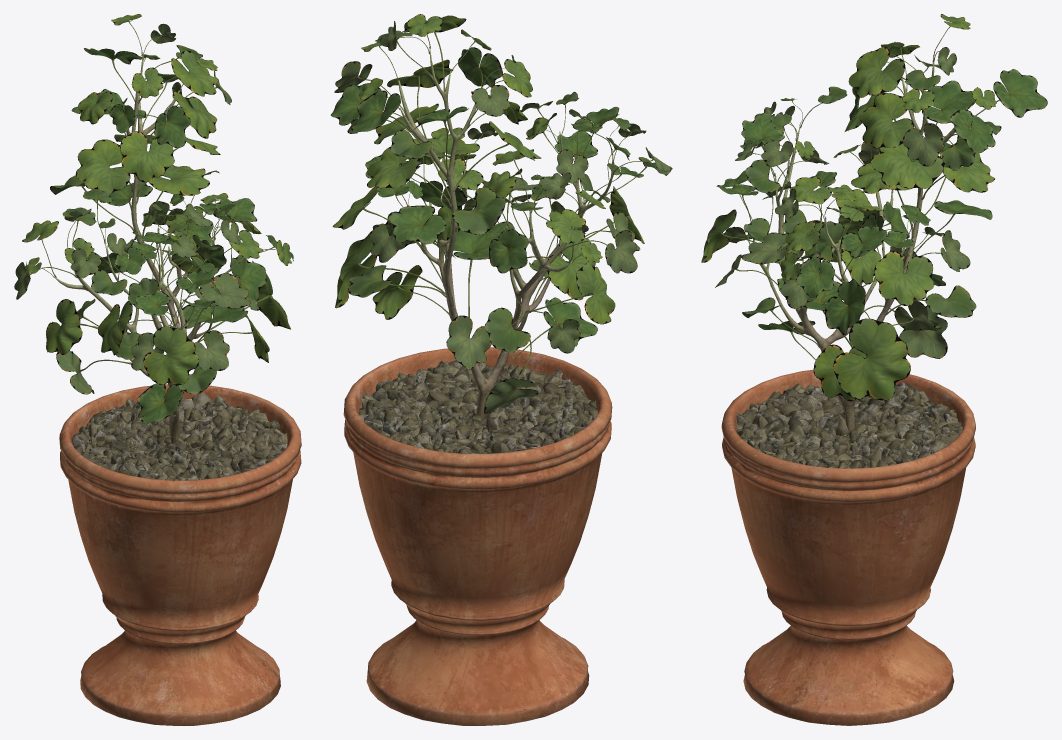
Rendered from plant-ficus.glb.
3 renders of one model, left to right at view 1: azimuth 30°, elevation 25°; view 2: azimuth 150°, elevation 25°; view 3: azimuth 270°, elevation 25°, orthographic. The views are drawn at different scales.
Parts seen in each view (by area): view 1: potted_plant_01_pot, potted_plant_01_leaves, potted_plant_01_pebbles, potted_plant_01_stem; view 2: potted_plant_01_pot, potted_plant_01_leaves, potted_plant_01_pebbles, potted_plant_01_stem; view 3: potted_plant_01_pot, potted_plant_01_leaves, potted_plant_01_pebbles, potted_plant_01_stem.
Boxes of the visible parts, bbox=[...] form: potted_plant_01_pot: bbox=[59, 384, 301, 725]; potted_plant_01_leaves: bbox=[14, 14, 293, 424]; potted_plant_01_pebbles: bbox=[71, 392, 287, 480]; potted_plant_01_stem: bbox=[54, 54, 244, 443]; potted_plant_01_pot: bbox=[343, 347, 612, 725]; potted_plant_01_leaves: bbox=[331, 14, 672, 414]; potted_plant_01_pebbles: bbox=[359, 360, 597, 453]; potted_plant_01_stem: bbox=[398, 49, 613, 420]; potted_plant_01_pot: bbox=[721, 369, 975, 725]; potted_plant_01_leaves: bbox=[701, 14, 1047, 401]; potted_plant_01_pebbles: bbox=[736, 382, 962, 468]; potted_plant_01_stem: bbox=[752, 55, 967, 431].
Size of the model in its own units: 0.5874 by 1.34 by 0.6336.
Materials: 2 (2 with a texture image).
